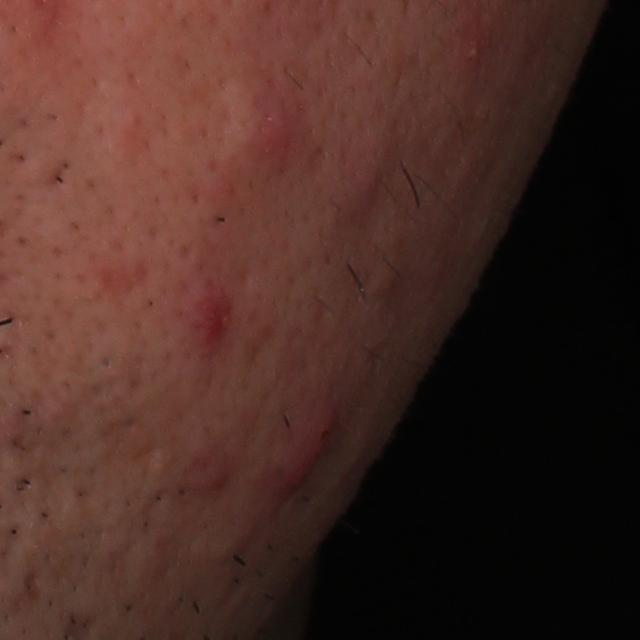papule: (272, 394, 345, 512), (224, 84, 305, 176), (322, 145, 397, 222), (181, 280, 236, 365), (181, 458, 245, 500)
